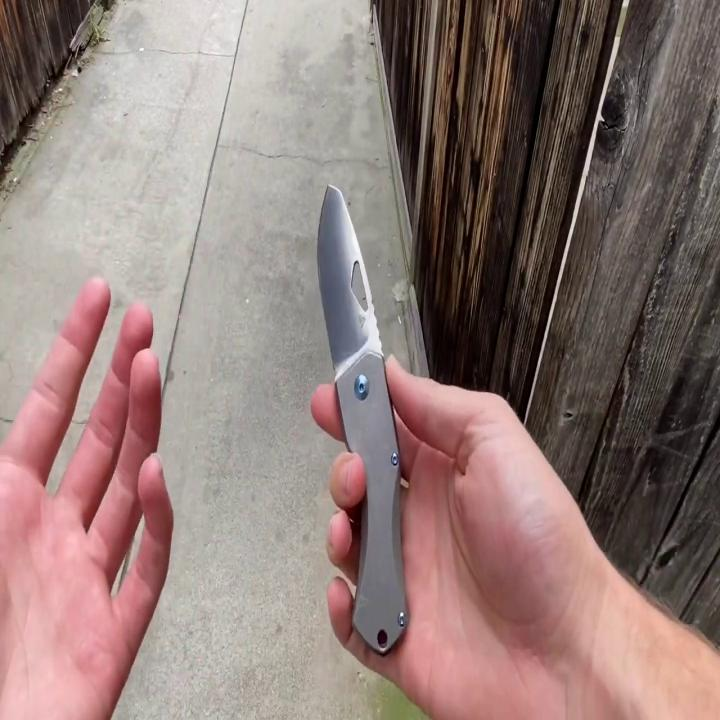knife: (314, 178, 413, 660)
